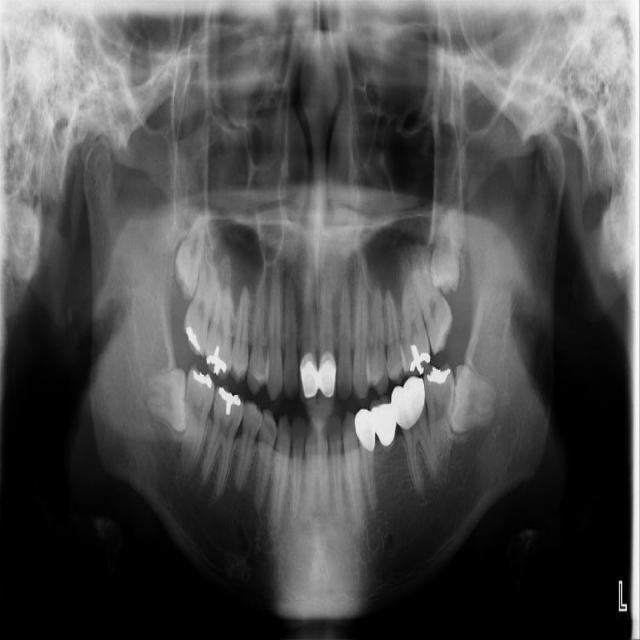3M ESPE Implant: (170, 214, 207, 303)
52: (347, 372, 443, 456), (298, 353, 337, 402), (396, 326, 433, 376), (182, 306, 208, 360), (205, 331, 232, 380), (423, 363, 455, 404), (214, 386, 245, 426), (187, 367, 215, 411)
73: (620, 590, 626, 604)
BioHorizons Implant: (406, 244, 460, 356)
BioLife Implant: (431, 205, 460, 296)
Biomet 3i Implant: (449, 363, 495, 432)
Blue Sky Bio Implant: (422, 363, 462, 472)
Caries: (179, 246, 223, 360)
Implant: (180, 364, 217, 480)
Keystone Dental Implant: (146, 369, 190, 436)
